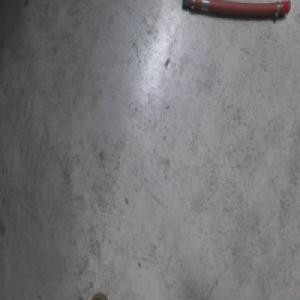Hose: (181, 0, 292, 21)
